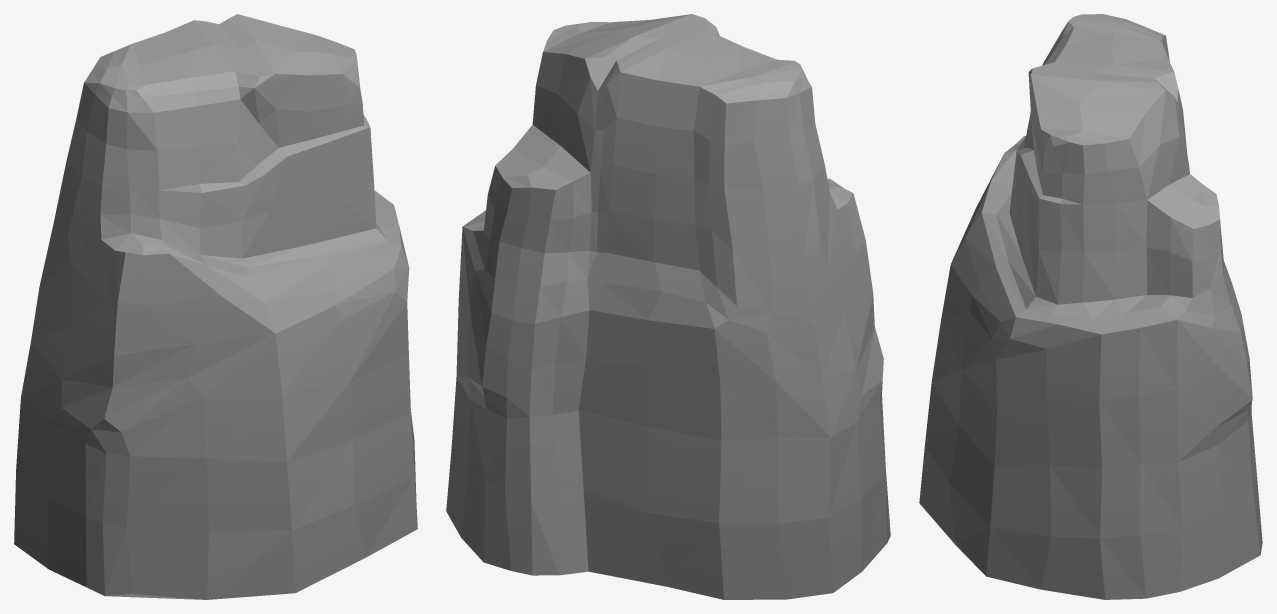
The model's file is Cavern_RockCliff-01.fbx.
3 views of the same model, side by side, from view 1: azimuth 30°, elevation 25°; view 2: azimuth 150°, elevation 25°; view 3: azimuth 270°, elevation 25° (orthographic). The views are drawn at different scales.
Parts seen in each view (by area): view 1: Cavern_RockCliff-01; view 2: Cavern_RockCliff-01; view 3: Cavern_RockCliff-01.
Part boxes in pixels (x1=…): Cavern_RockCliff-01: x1=14, y1=14, x2=417, y2=599; Cavern_RockCliff-01: x1=446, y1=14, x2=890, y2=599; Cavern_RockCliff-01: x1=919, y1=14, x2=1262, y2=599.
Bounding box in the file's own units: 1054 × 1309 × 891.
1 material, 1 textured.
